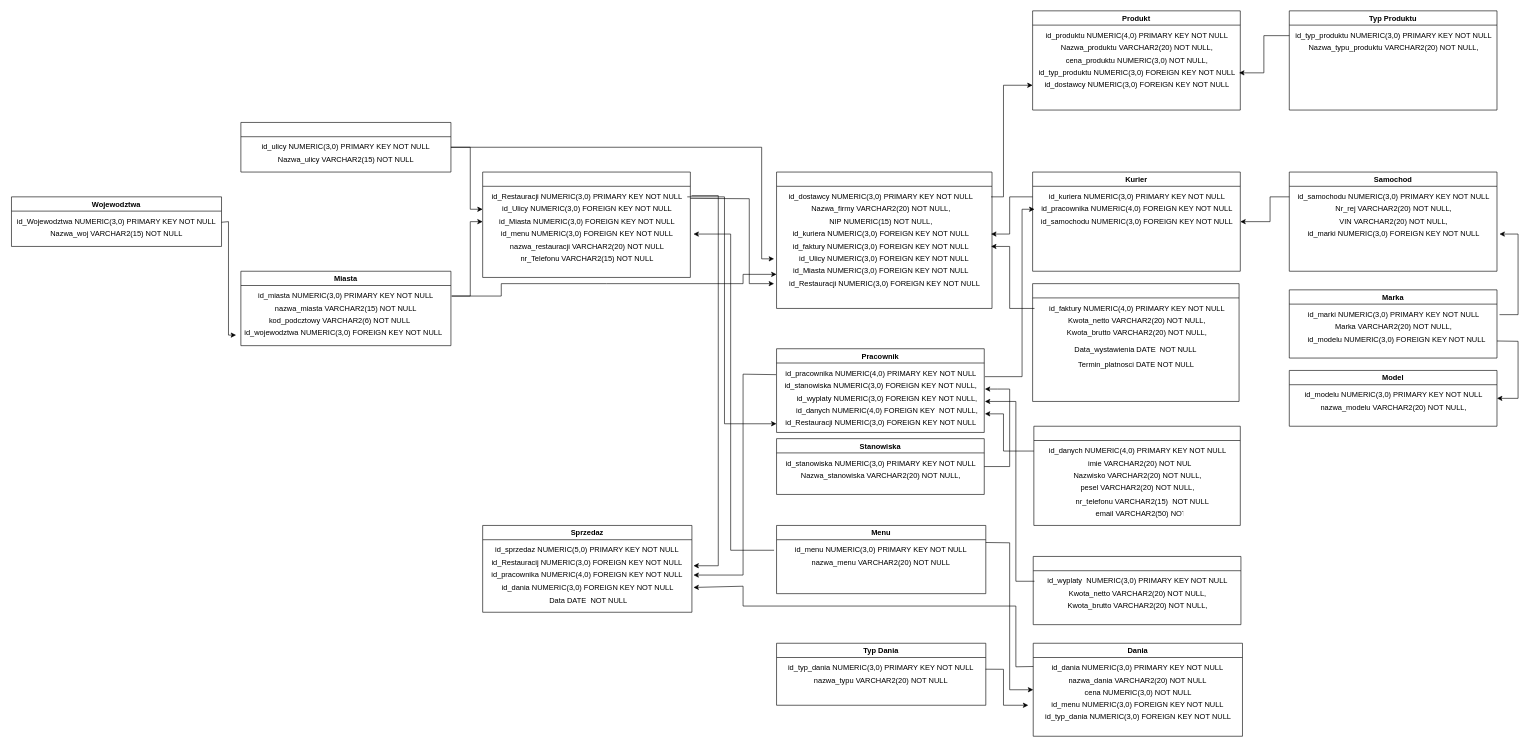
This 1534x747 diagram has some shape labels left out. The box of each missing label's shape, as (x1, y1, x2, y2) in pixels:
Dane osobowe: (1033, 426, 1240, 525)
Dostawca: (776, 171, 992, 308)
Faktura: (1032, 283, 1239, 401)
Restauracja: (482, 171, 690, 277)
ulica: (240, 122, 451, 172)
Wypłata: (1033, 556, 1241, 625)
